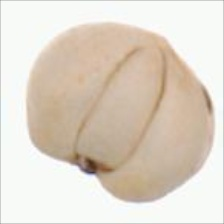L5: (69, 42, 168, 177), (152, 31, 198, 80)
L6: (21, 22, 217, 206)
